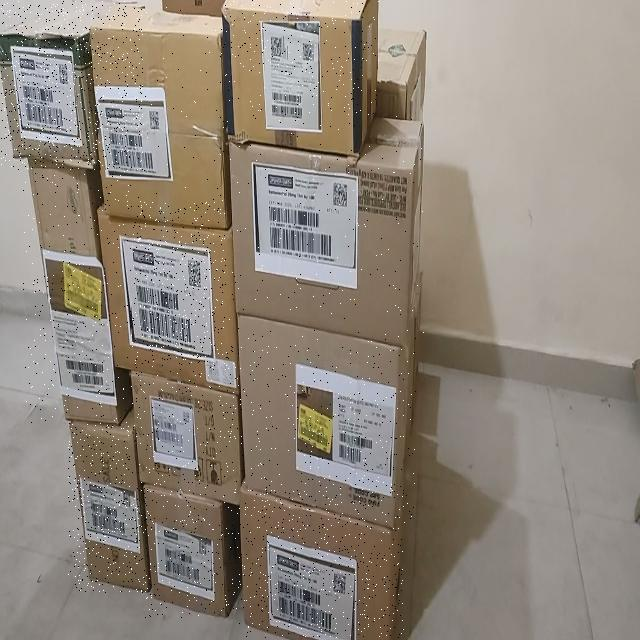BoxFace: (226, 115, 424, 345), (236, 307, 416, 528), (89, 6, 230, 230), (23, 147, 132, 425), (97, 202, 239, 394), (239, 478, 405, 638), (220, 0, 379, 157), (1, 1, 143, 170), (130, 368, 242, 505), (68, 411, 151, 593), (142, 482, 241, 618)
